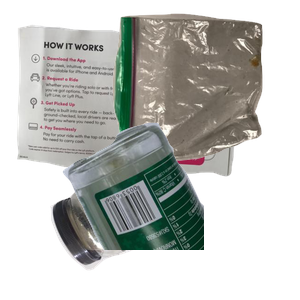glass: (60, 120, 300, 300)
paper: (14, 22, 247, 191)
plastic: (48, 152, 228, 300)
trash: (110, 11, 300, 167)
